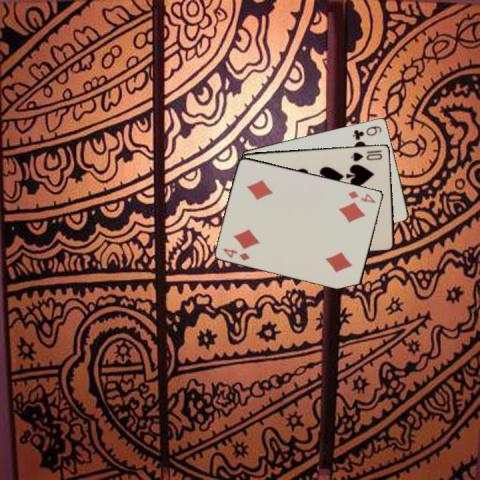10s: (349, 149, 384, 163)
4d: (345, 188, 377, 205), (220, 245, 251, 262)
6c: (350, 123, 383, 140)
